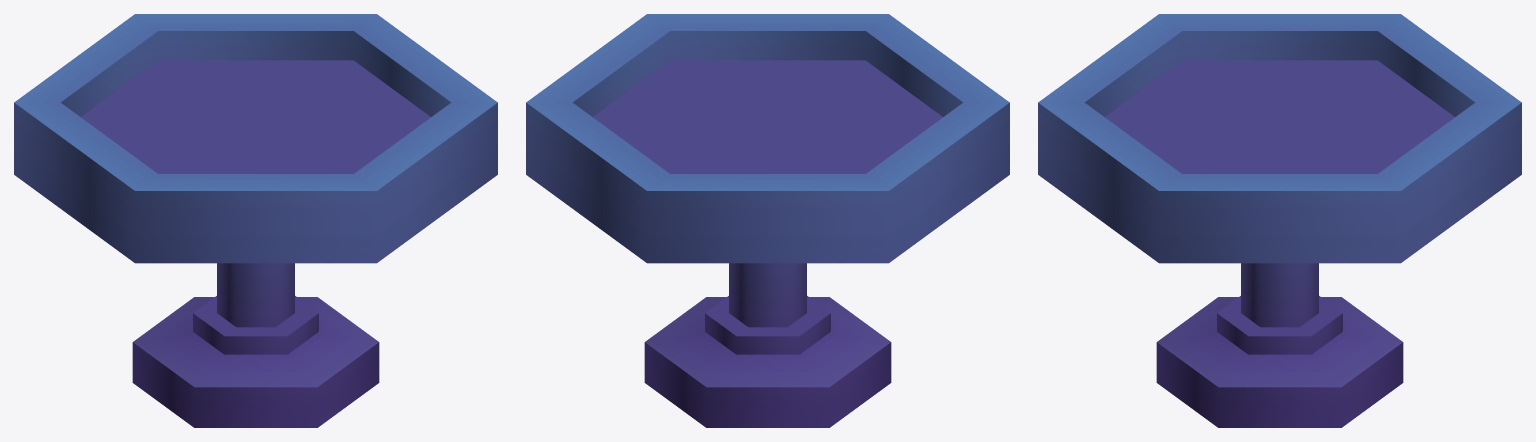
File: FoodProp_1_C.fbx
3 renders of one model, left to right at view 1: azimuth 30°, elevation 25°; view 2: azimuth 150°, elevation 25°; view 3: azimuth 270°, elevation 25°, orthographic.
Parts seen in each view (by area): view 1: FoodProp_1_C; view 2: FoodProp_1_C; view 3: FoodProp_1_C.
Boxes of the visible parts, x1,y1,x2,y2 form: FoodProp_1_C: (14, 14, 497, 427); FoodProp_1_C: (526, 14, 1009, 427); FoodProp_1_C: (1038, 14, 1521, 427).
Size of the model in its own units: 49.95 by 36.88 by 57.67.
